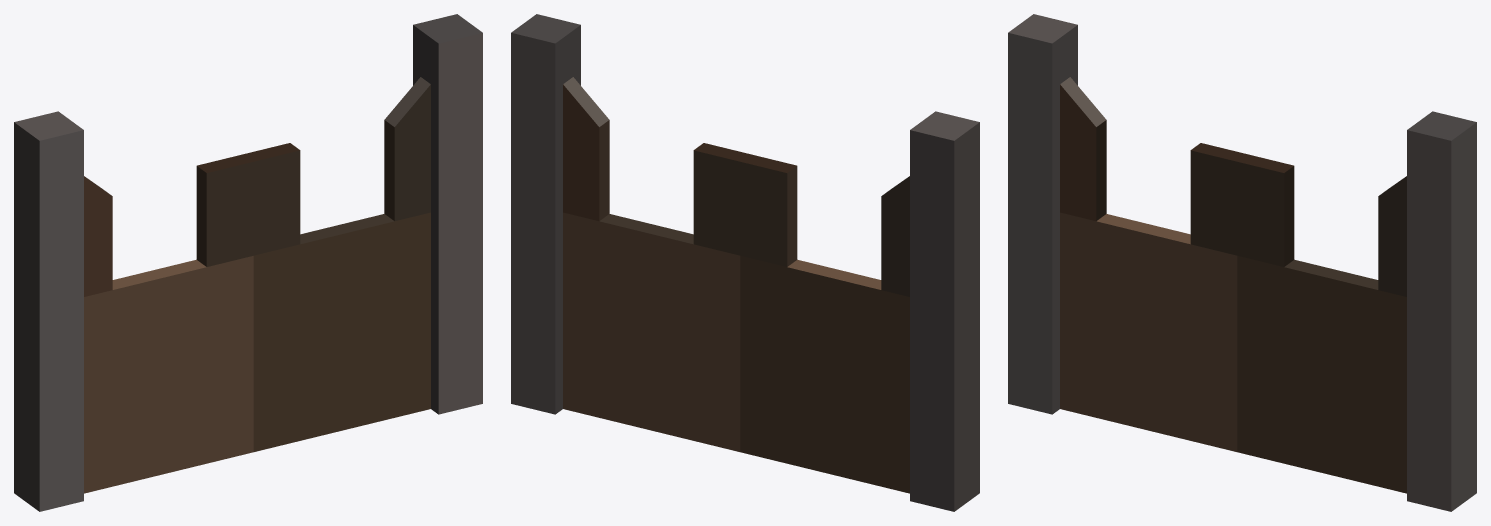
Rendered from MidWall-GateLOD2.fbx.
3 renders of one model, left to right at view 1: azimuth 30°, elevation 25°; view 2: azimuth 150°, elevation 25°; view 3: azimuth 330°, elevation 25°, orthographic.
Visible parts, largest first — view 1: MidWall-GateLOD2; view 2: MidWall-GateLOD2; view 3: MidWall-GateLOD2.
Part boxes in pixels (x1,y1,x2,y2): MidWall-GateLOD2: (14,14,482,511); MidWall-GateLOD2: (511,14,979,511); MidWall-GateLOD2: (1008,14,1476,511).
Bounding box in the file's own units: 250 × 200 × 25.
